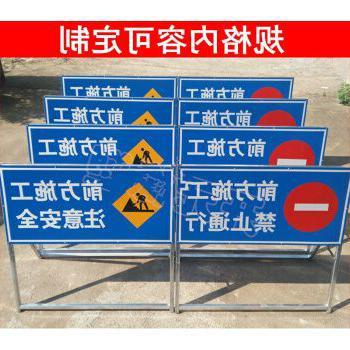sign: (1, 165, 172, 243), (181, 169, 349, 245), (177, 126, 323, 171), (26, 126, 173, 167), (45, 97, 174, 126), (177, 100, 305, 128), (181, 78, 293, 102), (63, 78, 176, 100)
